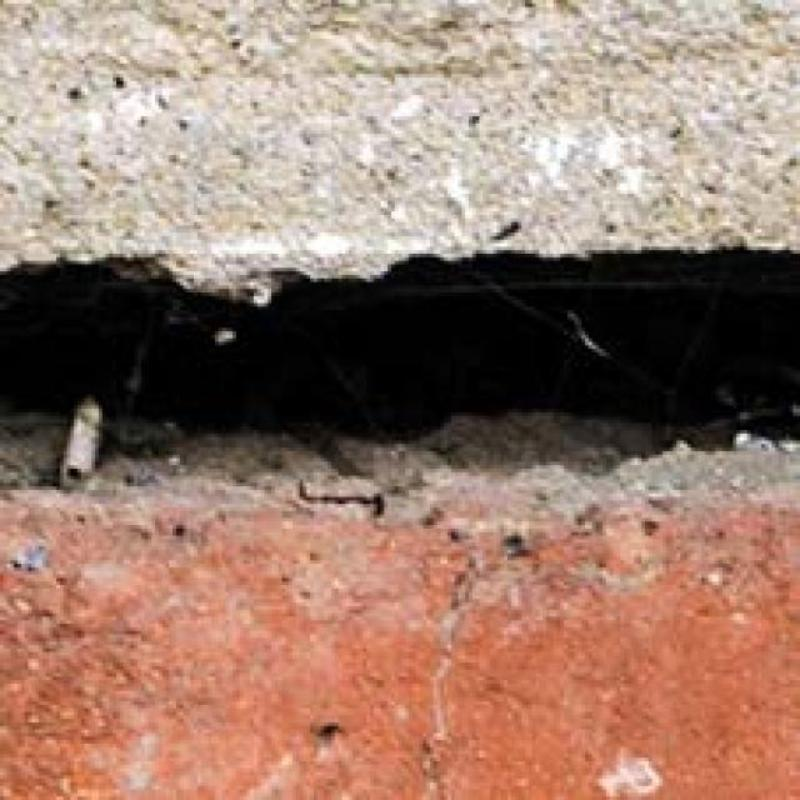pothole: (0, 252, 800, 436)
